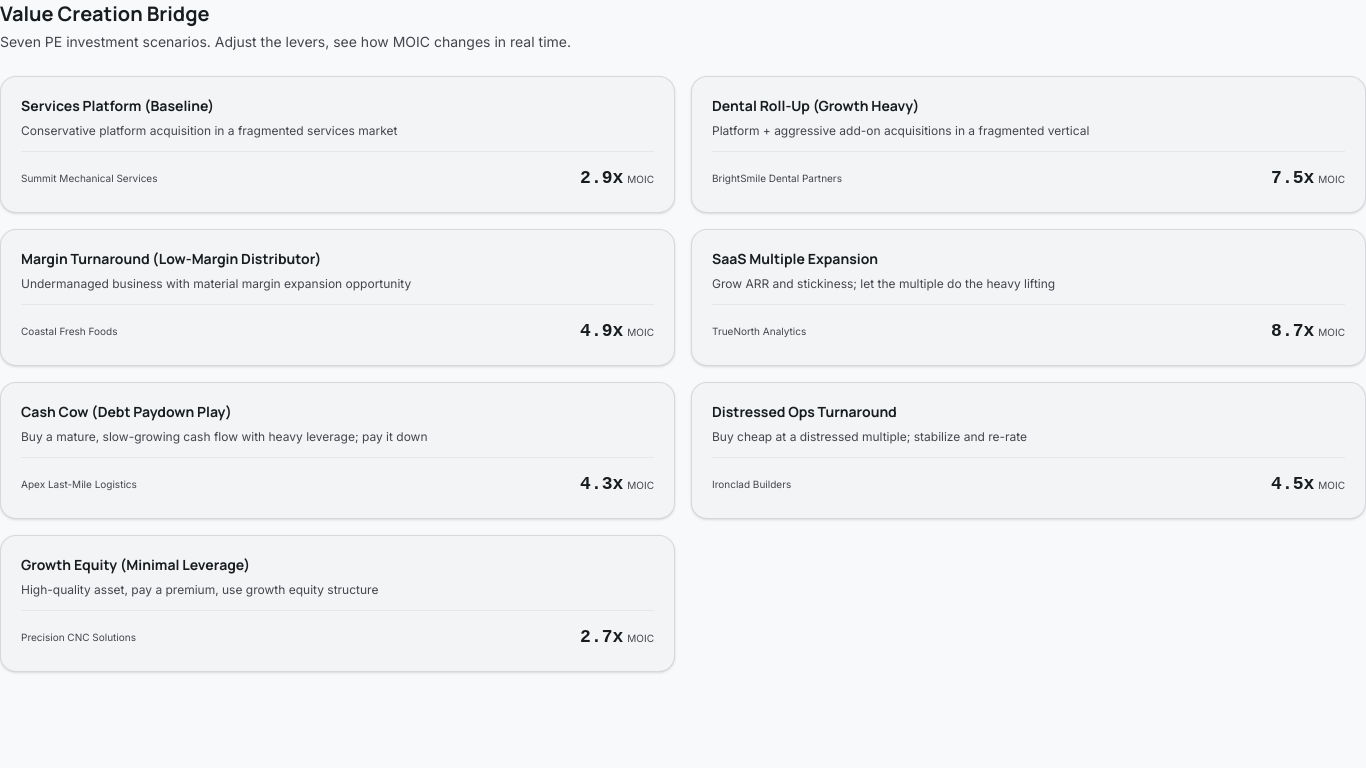
BridgeList › navigates to detail view on tile click
Step 1. Click the button "Services Platform (Baseline)" → point(118, 106), box [0,76,675,213]
(page scrolled)
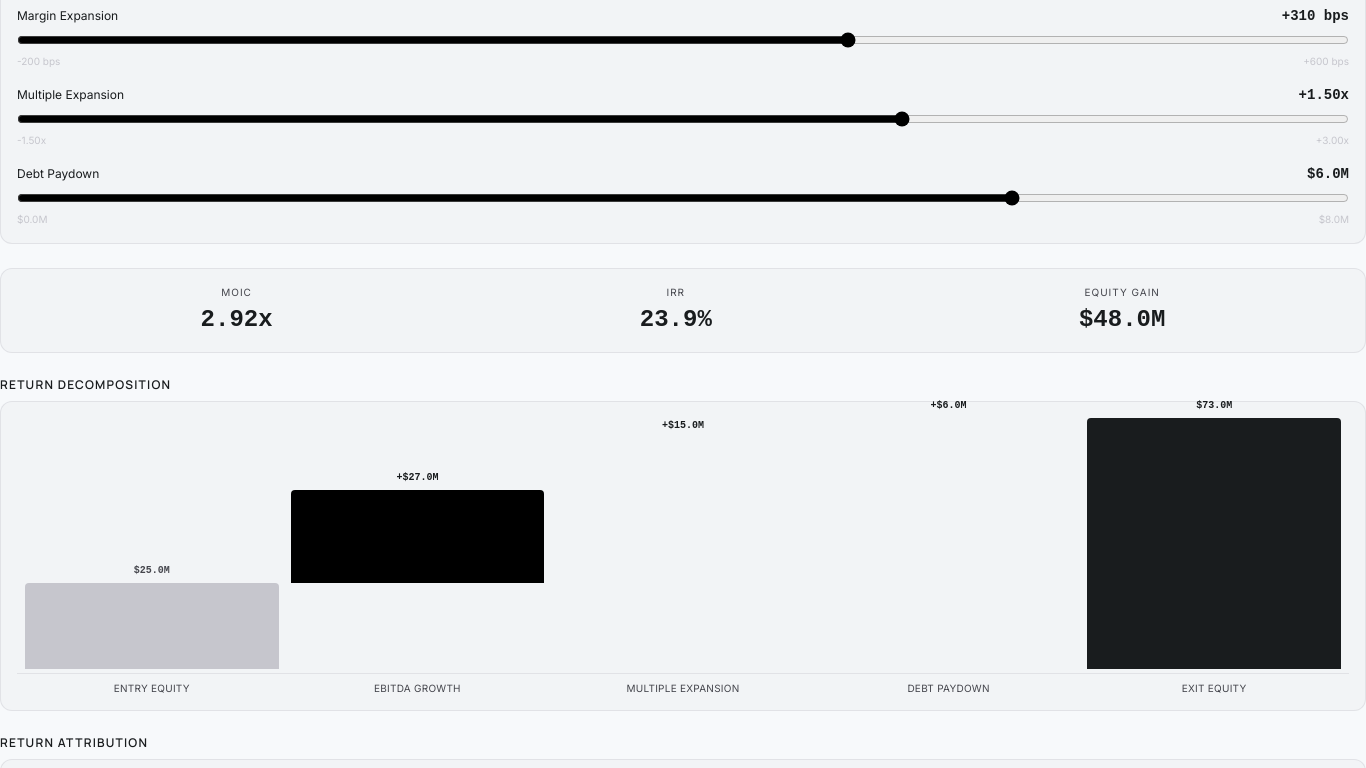
expect the heading "Return Decomposition" is shown: met, box [0,376,171,392]
